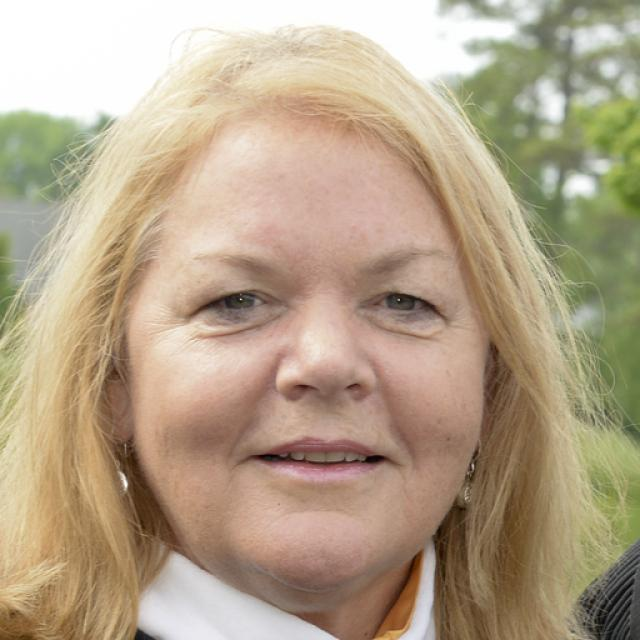content: (124, 116, 488, 582)
